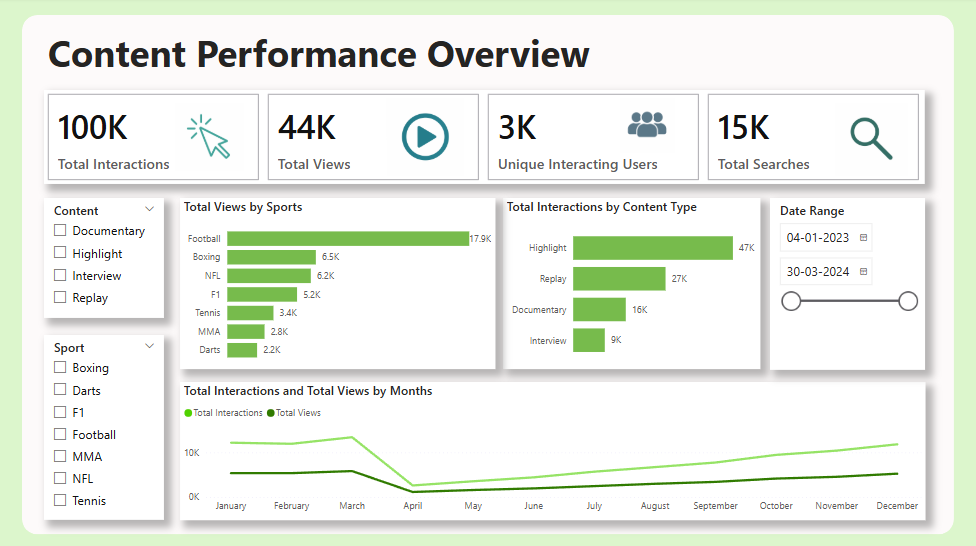

What the dashboard file says about the page in this screenshot:
{"tool":"powerbi","page":{"name":"Overview","canvas":[1280,720],"ordinal":0},"visuals":[{"type":"shape","box":[30,23.3,1220,680],"z":0},{"type":"cardVisual","fields":{"Data":["user_interactions.Total Interactions","user_interactions.Total Views","user_interactions.Unique Interacting Users","user_search_queries.Total Searches"]},"box":[58.8,122,1153.5,123.4],"z":1000},{"type":"clusteredBarChart","title":"Total Interactions by Content Type","fields":{"Category":["content_metadata.content_type"],"Y":["user_interactions.Total Interactions"]},"box":[660,262.9,337.1,224.3],"z":2000},{"type":"clusteredBarChart","title":"Total Views by Sports","fields":{"Category":["content_metadata.sport"],"Y":["user_interactions.Total Views"]},"box":[237.1,262.9,412.9,224.3],"z":3000},{"type":"lineChart","title":"Total Interactions and Total Views by Months","fields":{"Y":["user_interactions.Total Interactions","user_interactions.Total Views"],"Category":["user_interactions.month_name"]},"box":[236.6,504,975.7,180.7],"z":4000},{"type":"slicer","fields":{"Values":["user_interactions.interaction_timestamp"]},"box":[1009.5,263,202.8,224.8],"z":5000},{"type":"slicer","fields":{"Values":["content_metadata.content_type"]},"box":[58.8,263,157.2,157.2],"z":6000},{"type":"slicer","fields":{"Values":["content_metadata.sport"]},"box":[58.8,442.3,157.2,242.4],"z":7000},{"type":"textbox","box":[58.8,45.6,747.9,76.4],"z":8000},{"type":"image","box":[215,133.3,121.7,100],"z":8001},{"type":"image","box":[491.7,126.7,131.7,111.7],"z":8002},{"type":"image","box":[785,126.7,126.7,81.7],"z":8003},{"type":"image","box":[1085,133.3,115,105],"z":8004}]}

Visuals, with their boxes in screenshot pixels (x1, y1, x2, y2), scaled from the page's 1280x720 canvas onto the 976x546 screenshot:
shape: [23, 18, 953, 533]
cardVisual - user_interactions.Total Interactions x user_interactions.Total Views: [45, 93, 924, 186]
"Total Interactions by Content Type" clusteredBarChart: [503, 199, 760, 369]
"Total Views by Sports" clusteredBarChart: [181, 199, 496, 369]
"Total Interactions and Total Views by Months" lineChart: [180, 382, 924, 519]
slicer - user_interactions.interaction_timestamp: [770, 199, 924, 370]
slicer - content_metadata.content_type: [45, 199, 165, 319]
slicer - content_metadata.sport: [45, 335, 165, 519]
textbox: [45, 35, 615, 93]
image: [164, 101, 257, 177]
image: [375, 96, 475, 181]
image: [599, 96, 695, 158]
image: [827, 101, 915, 181]
